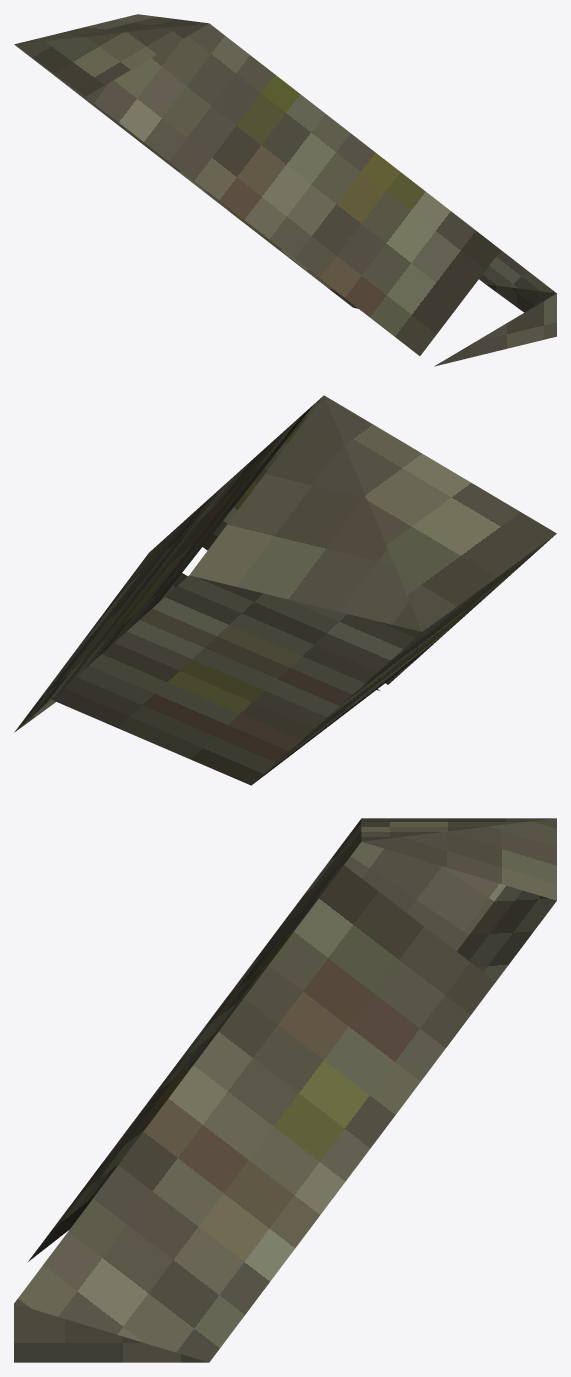
The model's file is larch_branch_45_diagonal.obj.
3 renders of one model, top to bottom at view 1: azimuth 30°, elevation 25°; view 2: azimuth 150°, elevation 25°; view 3: azimuth 270°, elevation 25°, orthographic. The views are drawn at different scales.
Visible parts, largest first — view 1: cube; view 2: cube; view 3: cube.
Part boxes in pixels (left/top/right/bottom): cube: left=14, top=14, right=556, bottom=366; cube: left=14, top=395, right=556, bottom=785; cube: left=14, top=818, right=556, bottom=1362.
Size of the model in its own units: 1.56 by 1.19 by 1.56.
